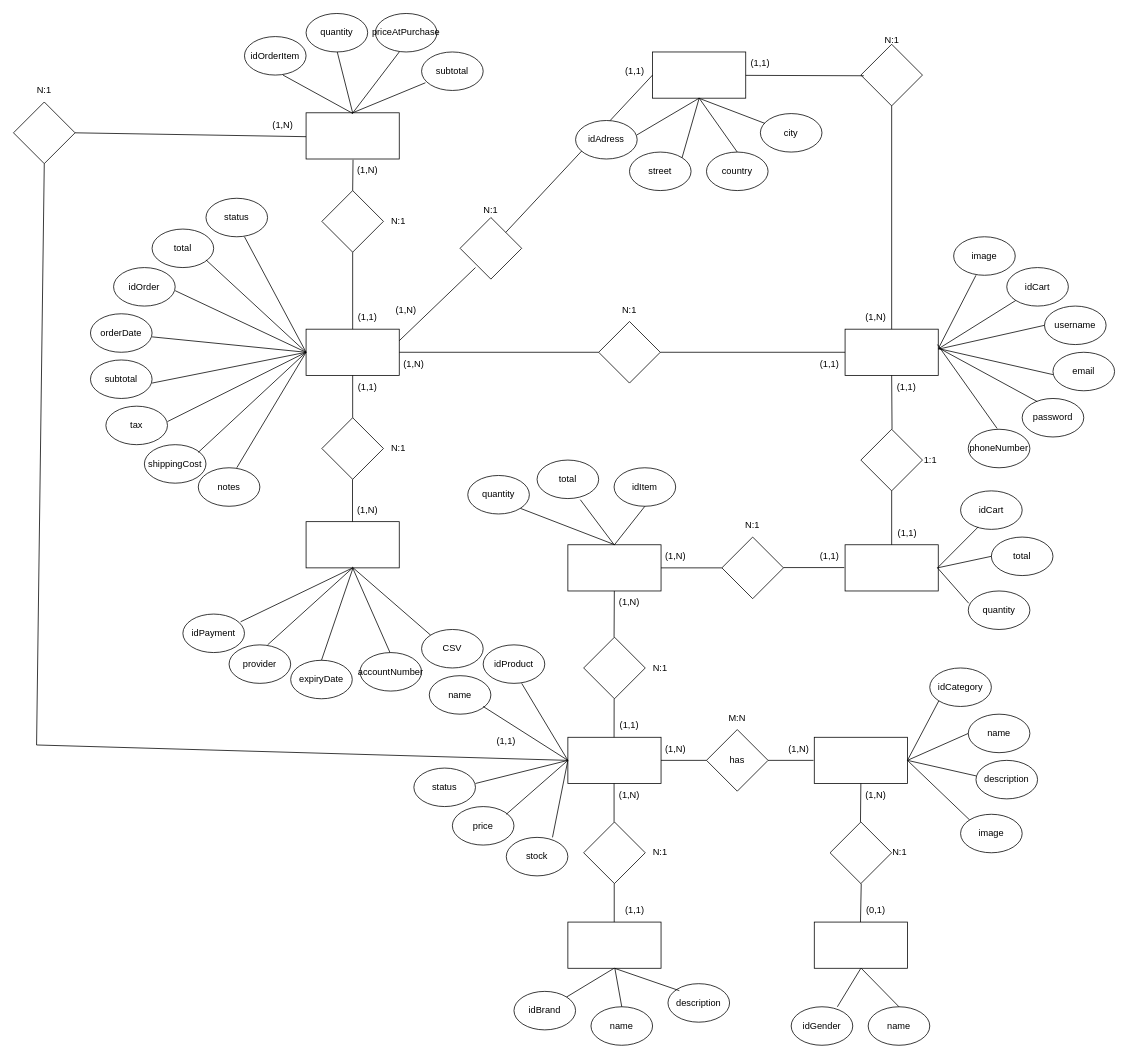
Image size: 1128x1059. Some labels were removed from this diagram. The centre of each missing label's shape, as x and y in pixels:
Address: point 699,74
Brand: point 614,944
Cart: point 891,567
CartItem: point 614,567
Category: point 860,760
Gender: point 860,944
Order: point 352,351
OrderItem: point 352,135
Payment: point 352,544
Product: point 614,760
User: point 891,351
